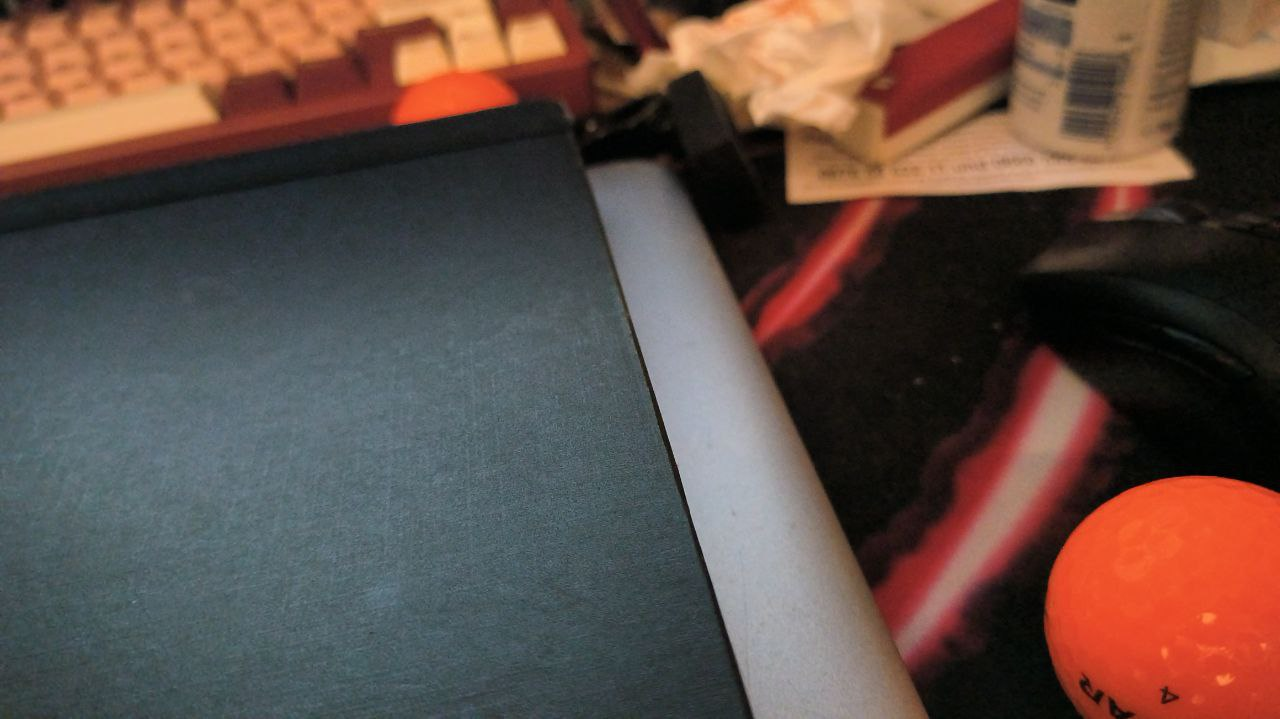orange_ball: (1044, 476, 1280, 719)
